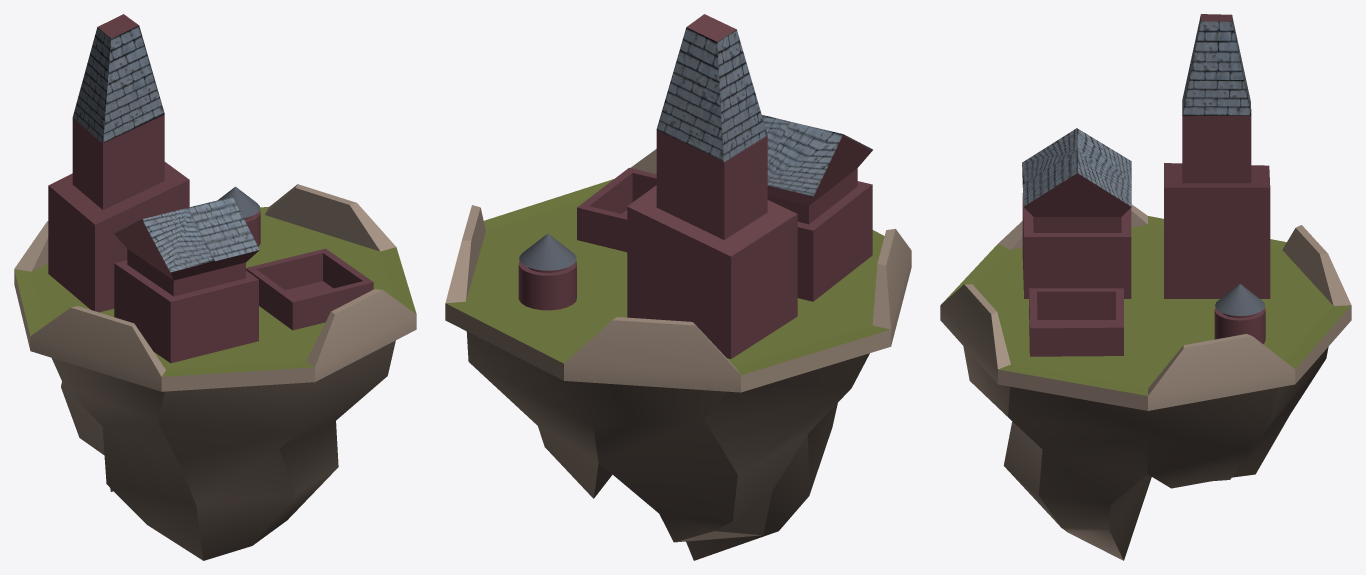
The model's file is float_tower_1.fbx.
3 renders of one model, left to right at view 1: azimuth 30°, elevation 25°; view 2: azimuth 150°, elevation 25°; view 3: azimuth 270°, elevation 25°, orthographic. The views are drawn at different scales.
Parts seen in each view (by area): view 1: pCylinder5; view 2: pCylinder5; view 3: pCylinder5.
Part boxes in pixels (left/top/right/bottom): pCylinder5: left=14, top=14, right=416, bottom=560; pCylinder5: left=445, top=14, right=911, bottom=560; pCylinder5: left=940, top=14, right=1351, bottom=560.
Size of the model in its own units: 11.01 by 14.71 by 10.62.
1 material, 1 textured.
